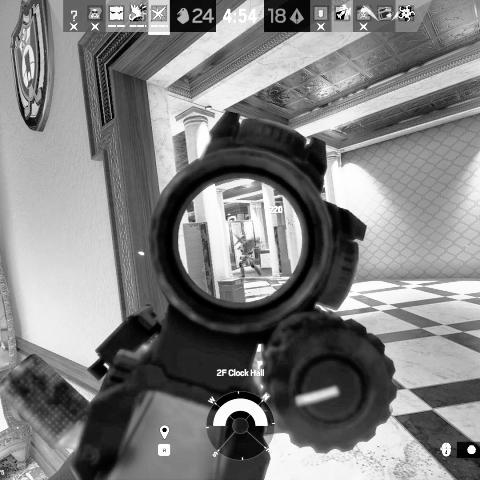Character: (236, 234, 264, 280)
Head: (241, 235, 247, 242)
